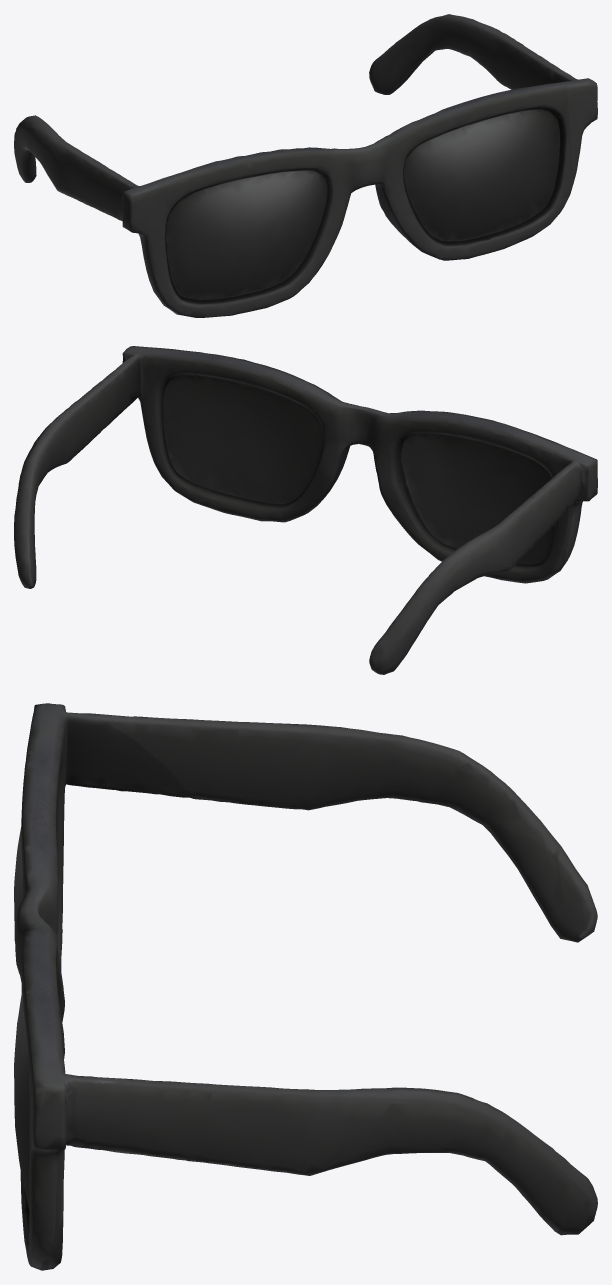
The model's file is Shades.glb.
3 renders of one model, top to bottom at view 1: azimuth 30°, elevation 25°; view 2: azimuth 150°, elevation 25°; view 3: azimuth 270°, elevation 25°, orthographic. The views are drawn at different scales.
Parts seen in each view (by area): view 1: Mesh_0.001; view 2: Mesh_0.001; view 3: Mesh_0.001.
Part boxes in pixels (box(x1,y1,x2,y2)): Mesh_0.001: box(14, 14, 597, 317); Mesh_0.001: box(14, 346, 597, 674); Mesh_0.001: box(14, 703, 597, 1270).
Size of the model in its own units: 0.557 by 0.1744 by 0.3554.
Materials: 1 (1 with a texture image).
